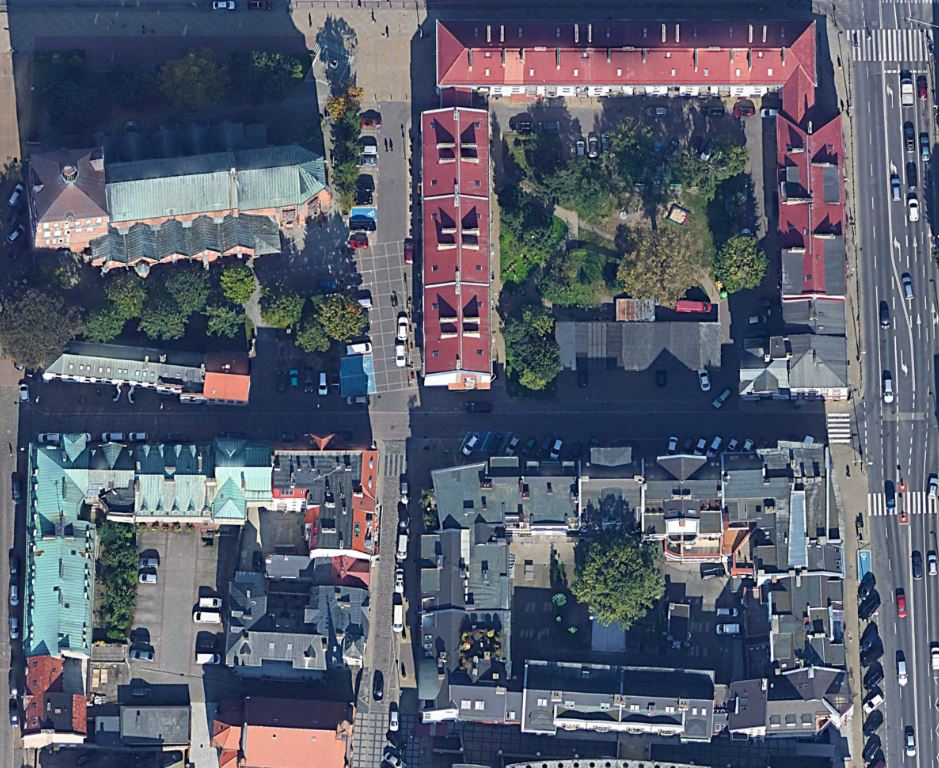block of flats: (403, 23, 860, 405), (405, 433, 869, 754), (5, 423, 385, 768), (23, 323, 277, 414)
church: (4, 99, 336, 290)
